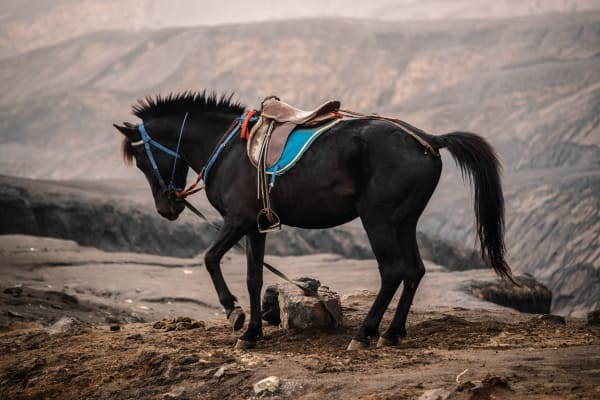horse: (115, 91, 507, 351)
